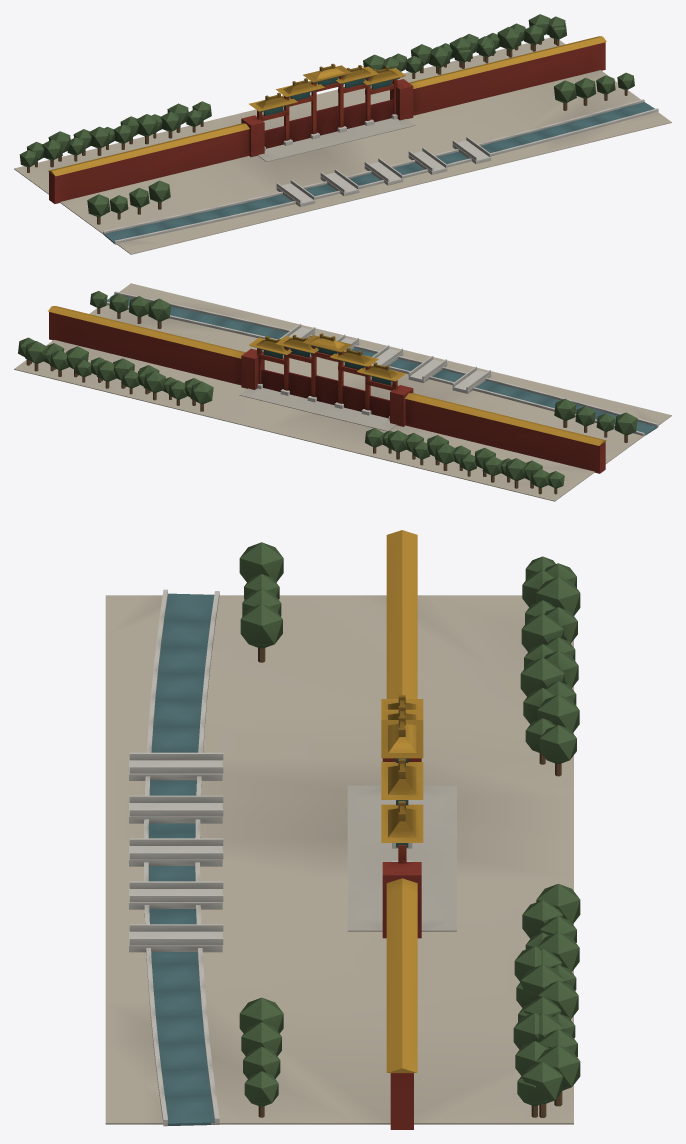
File: chengtianmen-1450.glb
3 views of the same model, one above another, from view 1: azimuth 30°, elevation 25°; view 2: azimuth 150°, elevation 25°; view 3: azimuth 270°, elevation 25° (orthographic). The views are drawn at different scales.
Visible parts, largest first — view 1: p0_walls, p2_trees, p1_gateway; view 2: p0_walls, p2_trees, p1_gateway; view 3: p0_walls, p2_trees, p1_gateway.
Boxes of the visible parts, box(x1,y1,x2,y2) form: p0_walls: box(14, 36, 671, 254); p2_trees: box(19, 14, 634, 224); p1_gateway: box(249, 63, 405, 150); p0_walls: box(14, 283, 671, 501); p2_trees: box(18, 291, 637, 494); p1_gateway: box(249, 333, 405, 420); p0_walls: box(105, 530, 573, 1129); p2_trees: box(239, 542, 580, 1117); p1_gateway: box(381, 695, 423, 863).
Size of the model in its own units: 163 by 19.5 by 60.83.
